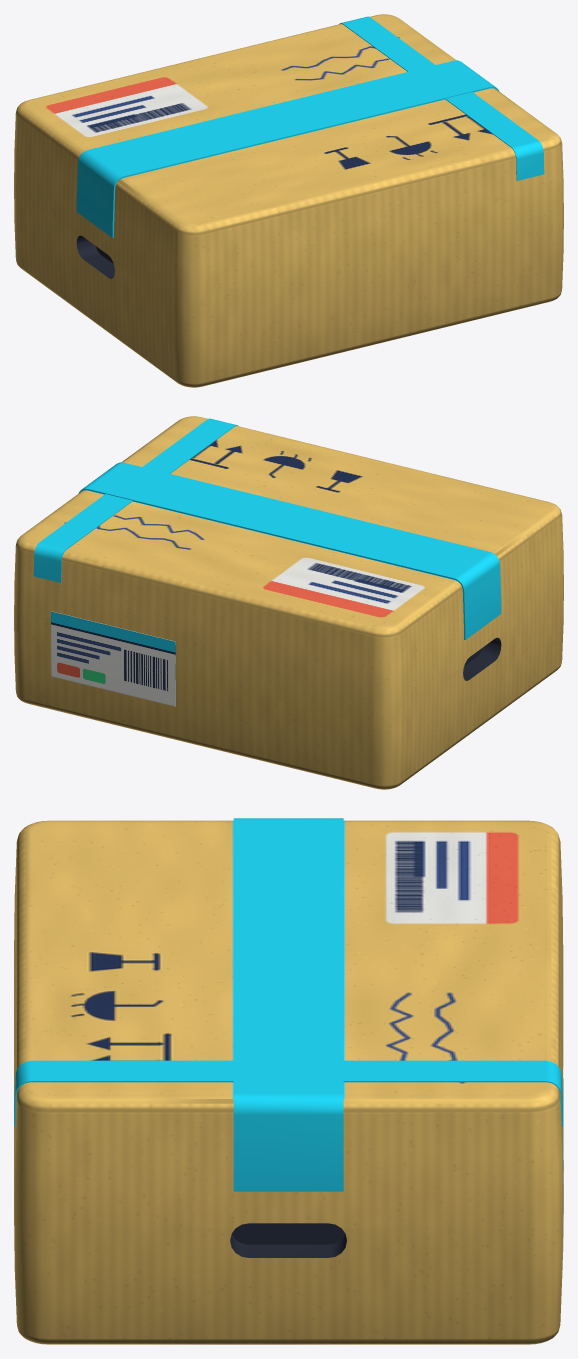
The model's file is reception_carton.glb.
3 views of the same model, one above another, from view 1: azimuth 30°, elevation 25°; view 2: azimuth 150°, elevation 25°; view 3: azimuth 270°, elevation 25° (orthographic). The views are drawn at different scales.
Parts seen in each view (by area): view 1: reception_carton_LOD0; view 2: reception_carton_LOD0; view 3: reception_carton_LOD0.
Part boxes in pixels (x1,y1,x2,y2): reception_carton_LOD0: [14, 14, 563, 387]; reception_carton_LOD0: [14, 416, 563, 789]; reception_carton_LOD0: [14, 818, 563, 1344].
Size of the model in its own units: 9.99 by 4 by 8.01.
Materials: 1 (1 with a texture image).
